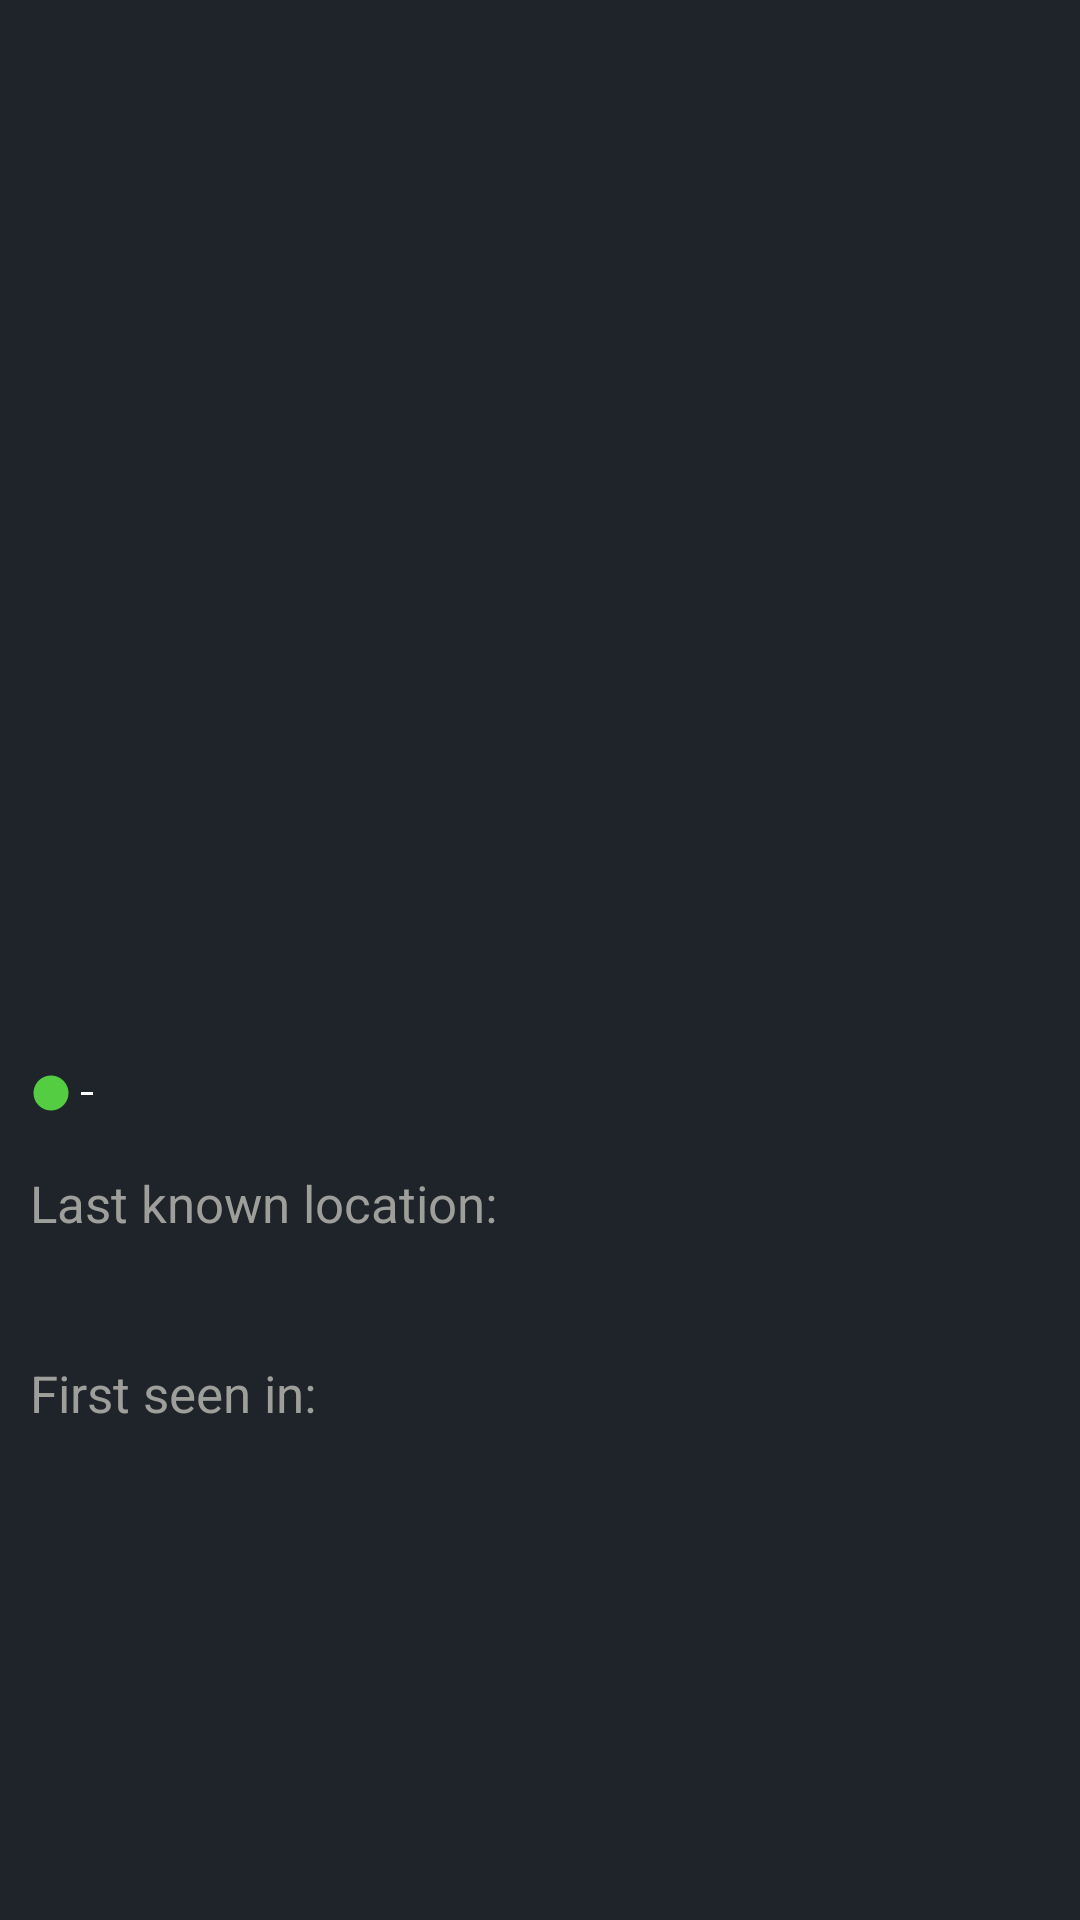

Icon bounding boxes for this 1080px×1920px phone screenshot, format bbox(x1, y1, x2, y2):
dot: bbox(33, 1075, 69, 1111)
